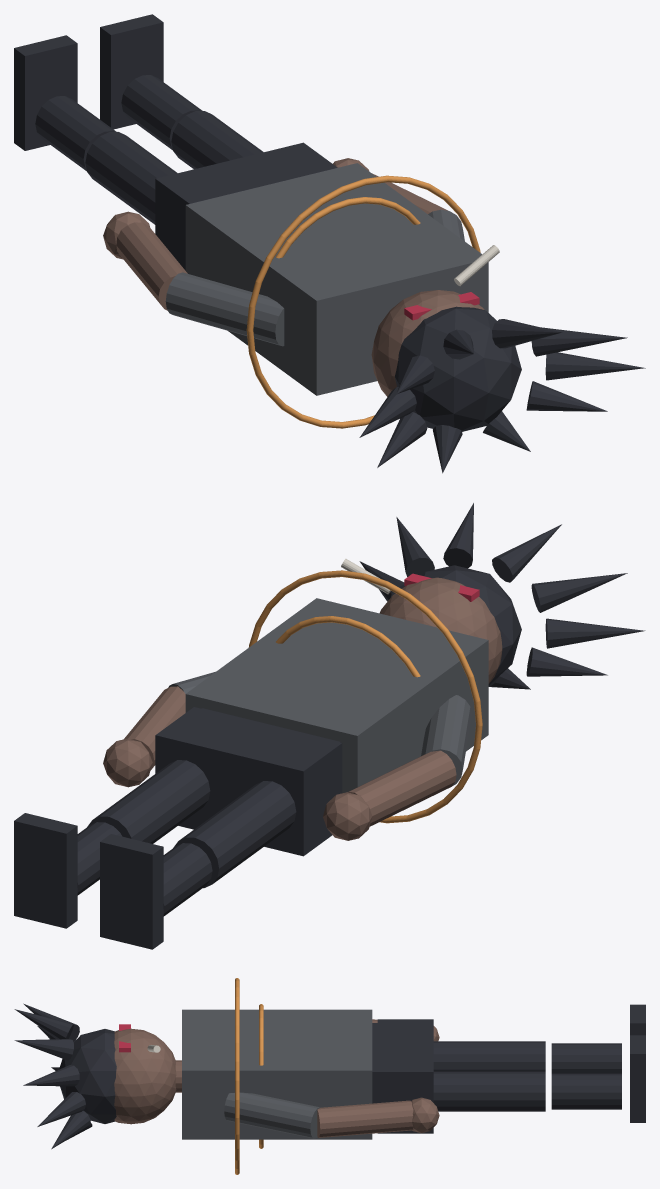
File: 05_cinder_vice.glb
3 renders of one model, top to bottom at view 1: azimuth 30°, elevation 25°; view 2: azimuth 150°, elevation 25°; view 3: azimuth 270°, elevation 25°, orthographic. The views are drawn at different scales.
Visible parts, largest first — view 1: cinder_long_coat, cinder_hair_cap, cinder_hips, cinder_shoe_-1, cinder_upper_arm_-1, cinder_shoe_1, cinder_upper_leg_-1, cinder_flame_ring_1, cinder_head, cinder_upper_leg_1, cinder_lower_leg_-1, cinder_lower_leg_1 (+13 smaller); view 2: cinder_long_coat, cinder_hips, cinder_shoe_-1, cinder_shoe_1, cinder_upper_leg_-1, cinder_upper_leg_1, cinder_head, cinder_forearm_-1, cinder_flame_ring_1, cinder_hair_cap, cinder_lower_leg_-1, cinder_upper_arm_-1 (+11 smaller); view 3: cinder_long_coat, cinder_head, cinder_hips, cinder_upper_leg_1, cinder_hair_cap, cinder_upper_leg_-1, cinder_forearm_1, cinder_upper_arm_1, cinder_lower_leg_1, cinder_lower_leg_-1, cinder_shoe_1, cinder_flame_ring_1 (+10 smaller).
Part boxes in pixels (<box>): cinder_long_coat: <box>185,163,488,395</box>; cinder_hair_cap: <box>394,306,521,431</box>; cinder_hips: <box>155,142,337,270</box>; cinder_shoe_-1: <box>14,35,77,150</box>; cinder_upper_arm_-1: <box>165,272,284,346</box>; cinder_shoe_1: <box>100,14,163,129</box>; cinder_upper_leg_-1: <box>85,132,177,224</box>; cinder_flame_ring_1: <box>246,175,480,428</box>; cinder_head: <box>371,290,484,396</box>; cinder_upper_leg_1: <box>171,111,263,169</box>; cinder_lower_leg_-1: <box>35,96,116,171</box>; cinder_lower_leg_1: <box>121,75,202,150</box>; cinder_long_coat: <box>185,598,488,793</box>; cinder_hips: <box>155,707,342,856</box>; cinder_shoe_-1: <box>100,834,163,949</box>; cinder_shoe_1: <box>14,813,77,928</box>; cinder_upper_leg_-1: <box>173,781,296,888</box>; cinder_upper_leg_1: <box>87,760,210,843</box>; cinder_head: <box>379,577,502,683</box>; cinder_forearm_-1: <box>348,750,456,826</box>; cinder_flame_ring_1: <box>248,570,482,823</box>; cinder_hair_cap: <box>422,565,521,685</box>; cinder_lower_leg_-1: <box>163,843,212,916</box>; cinder_upper_arm_-1: <box>421,695,471,785</box>; cinder_long_coat: <box>182,1009,372,1139</box>; cinder_head: <box>114,1028,176,1124</box>; cinder_hips: <box>377,1019,433,1133</box>; cinder_upper_leg_1: <box>433,1071,545,1111</box>; cinder_hair_cap: <box>59,1029,116,1123</box>; cinder_upper_leg_-1: <box>433,1041,545,1071</box>; cinder_forearm_1: <box>317,1100,413,1137</box>; cinder_upper_arm_1: <box>224,1092,320,1138</box>; cinder_lower_leg_1: <box>551,1073,621,1109</box>; cinder_lower_leg_-1: <box>551,1043,621,1073</box>; cinder_shoe_1: <box>630,1035,645,1122</box>; cinder_flame_ring_1: <box>235,978,239,1174</box>.
Size of the model in its own units: 1.25 by 0.984 by 3.15.
